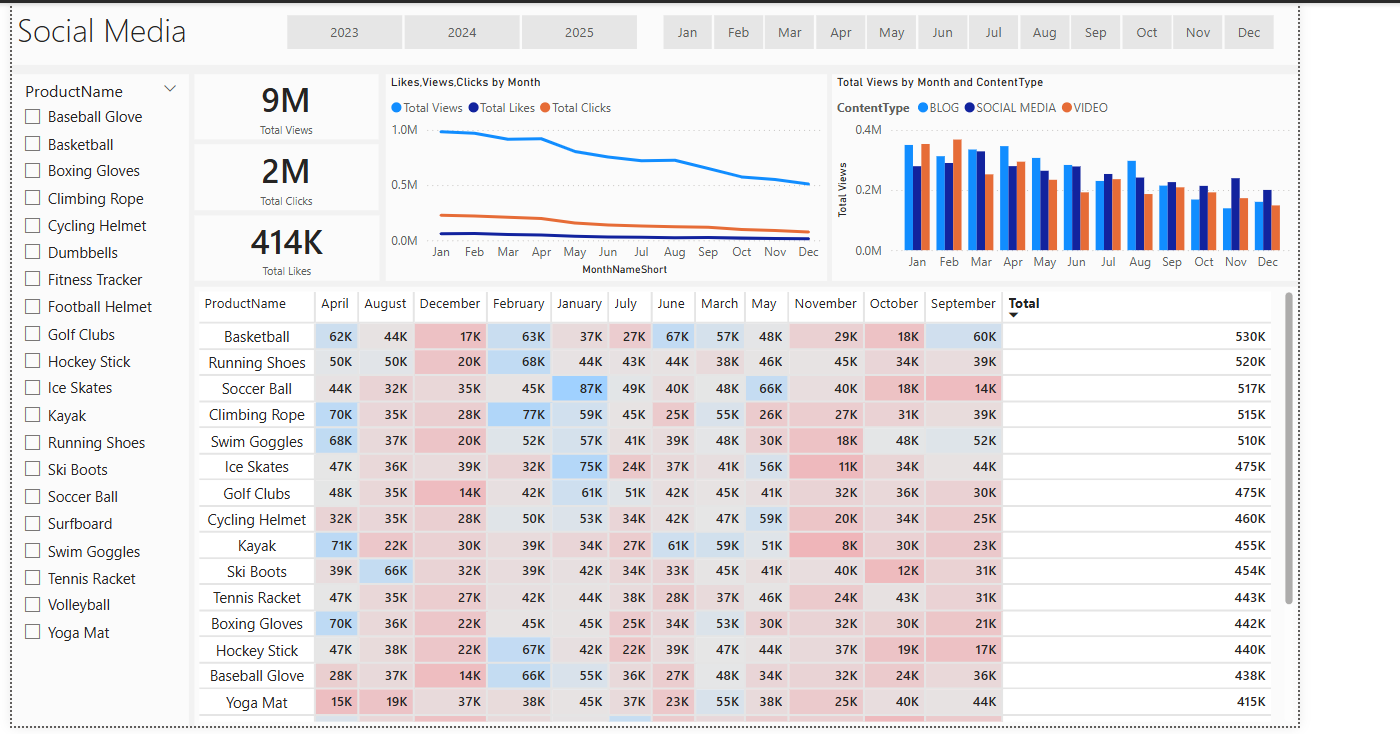

The page's visual inventory and layout, read from the dashboard file:
{"tool":"powerbi","page":{"name":"Social Media Details","canvas":[1280,720],"ordinal":2},"visuals":[{"type":"textbox","box":[0,0,1280,61.2],"z":0},{"type":"slicer","fields":{"Values":["dim_products.ProductName"]},"box":[0,71.2,176.2,648.8],"z":1000},{"type":"card","fields":{"Values":["Calculations.TotalViews"]},"box":[181.4,70.9,182.9,64.7],"z":2000},{"type":"card","fields":{"Values":["Calculations.TotalClicks"]},"box":[181.4,140.6,182.9,65.9],"z":3000},{"type":"card","fields":{"Values":["Calculations.TotalLikes"]},"box":[181.4,211.5,184.1,64.7],"z":4000},{"type":"slicer","fields":{"Values":["Calendar.Year"]},"box":[247.5,5,398.8,47.5],"z":5000},{"type":"slicer","fields":{"Values":["Calendar.MonthNameShort"]},"box":[622.5,5,657.5,47.5],"z":6000},{"type":"lineChart","title":"Likes,Views,Clicks by Month","fields":{"Y":["Calculations.Total Views","Calculations.Total Likes","Calculations.Total Clicks"],"Category":["Calendar.MonthNameShort"]},"box":[371.9,70.9,439.1,205.3],"z":7000},{"type":"clusteredColumnChart","title":"Total Views by Month and ContentType","fields":{"Category":["Calendar.MonthNameShort"],"Y":["Calculations.Total Views"],"Series":["fact_engagement_data.ContentType"]},"box":[816,70.9,464,205.3],"z":8000},{"type":"pivotTable","fields":{"Values":["Calculations.Total Views"],"Rows":["dim_products.ProductName"],"Columns":["Calendar.MonthNameLong"]},"box":[181.6,282.4,1098.4,437.9],"z":9000}]}

Visuals, with their boxes on the page's 1280x720 design canvas (x1, y1, x2, y2). These are canvas units, not pixel positions in the 1400x734 screenshot, which may show the page scaled, cropped or inside an application window:
textbox: (x1=0, y1=0, x2=1280, y2=61)
slicer - dim_products.ProductName: (x1=0, y1=71, x2=176, y2=720)
card - Calculations.TotalViews: (x1=181, y1=71, x2=364, y2=136)
card - Calculations.TotalClicks: (x1=181, y1=141, x2=364, y2=206)
card - Calculations.TotalLikes: (x1=181, y1=212, x2=366, y2=276)
slicer - Calendar.Year: (x1=248, y1=5, x2=646, y2=52)
slicer - Calendar.MonthNameShort: (x1=622, y1=5, x2=1280, y2=52)
"Likes,Views,Clicks by Month" lineChart: (x1=372, y1=71, x2=811, y2=276)
"Total Views by Month and ContentType" clusteredColumnChart: (x1=816, y1=71, x2=1280, y2=276)
pivotTable - Calculations.Total Views x dim_products.ProductName: (x1=182, y1=282, x2=1280, y2=720)
